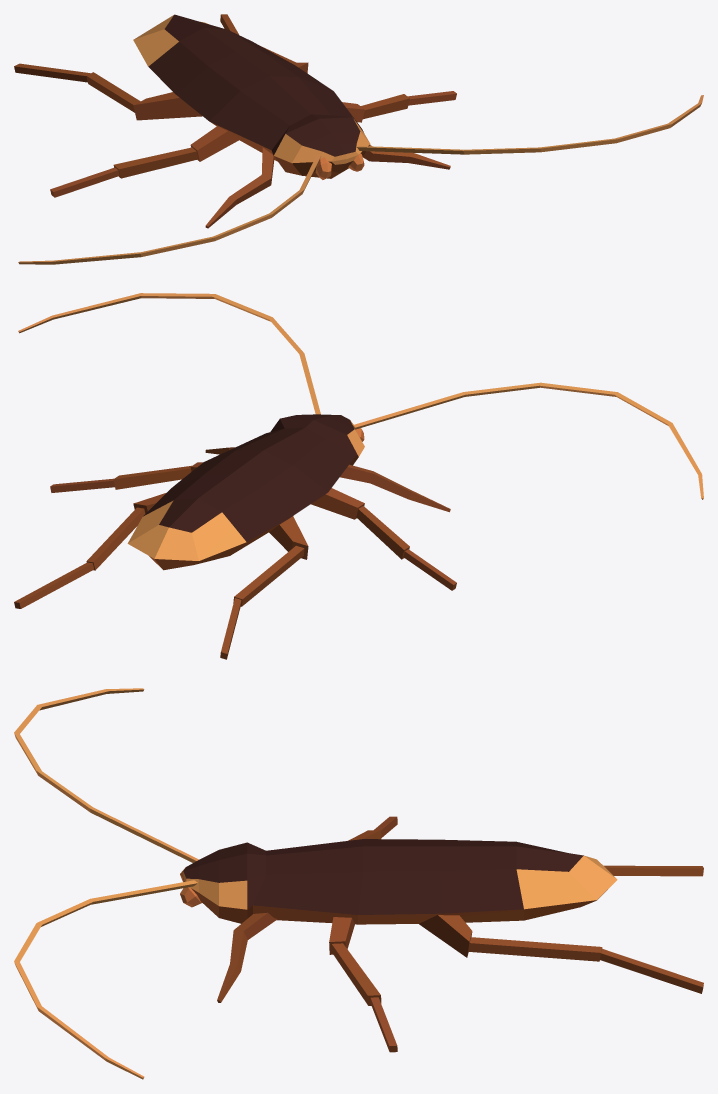
File: roach.glb
The picture shows the model from 3 angles, top to bottom: view 1: azimuth 30°, elevation 25°; view 2: azimuth 150°, elevation 25°; view 3: azimuth 270°, elevation 25°; orthographic projection. The views are drawn at different scales.
Parts seen in each view (by area): view 1: roach; view 2: roach; view 3: roach.
Boxes of the visible parts, x1,y1,x2,y2 form: roach: (14,14,703,264); roach: (14,293,703,659); roach: (14,688,703,1079).
Size of the model in its own units: 0.09 by 0.0101 by 0.0674.
1 material, 1 textured.
